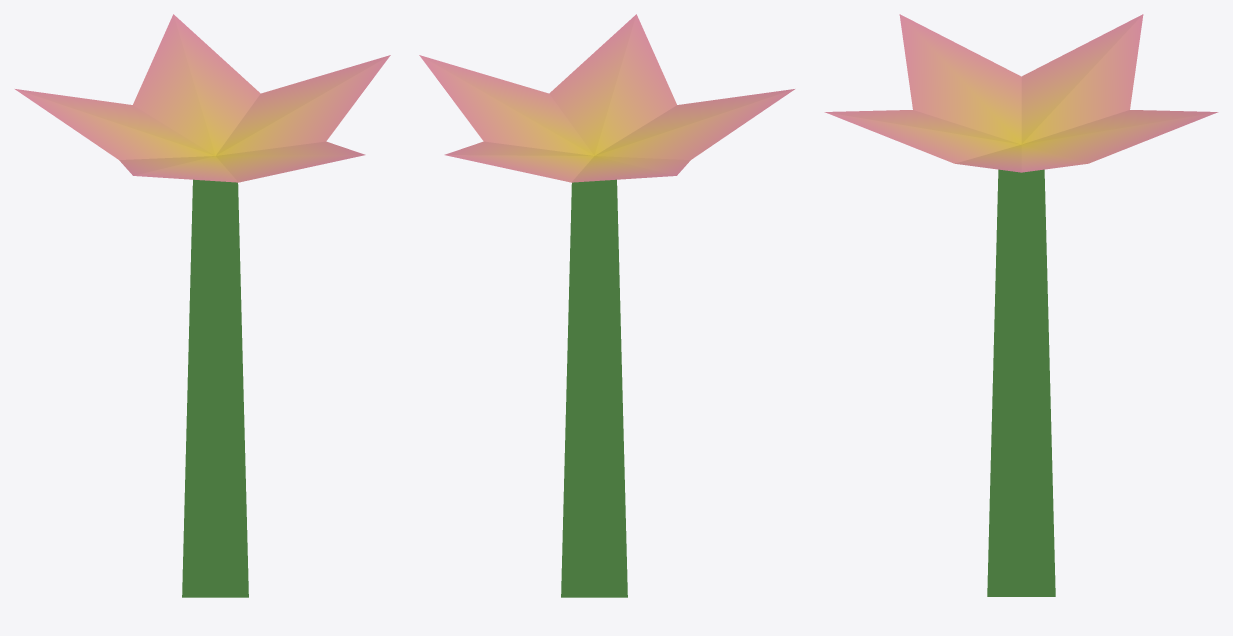
File: flower_0.glb
3 views of the same model, side by side, from view 1: azimuth 30°, elevation 25°; view 2: azimuth 150°, elevation 25°; view 3: azimuth 270°, elevation 25° (orthographic). The views are drawn at different scales.
Visible parts, largest first — view 1: flower_0; view 2: flower_0; view 3: flower_0.
Part boxes in pixels (x1,y1,x2,y2): flower_0: [15, 14, 390, 597]; flower_0: [419, 14, 794, 597]; flower_0: [824, 14, 1218, 596].
Size of the model in its own units: 0.1709 by 0.2615 by 0.1797.
